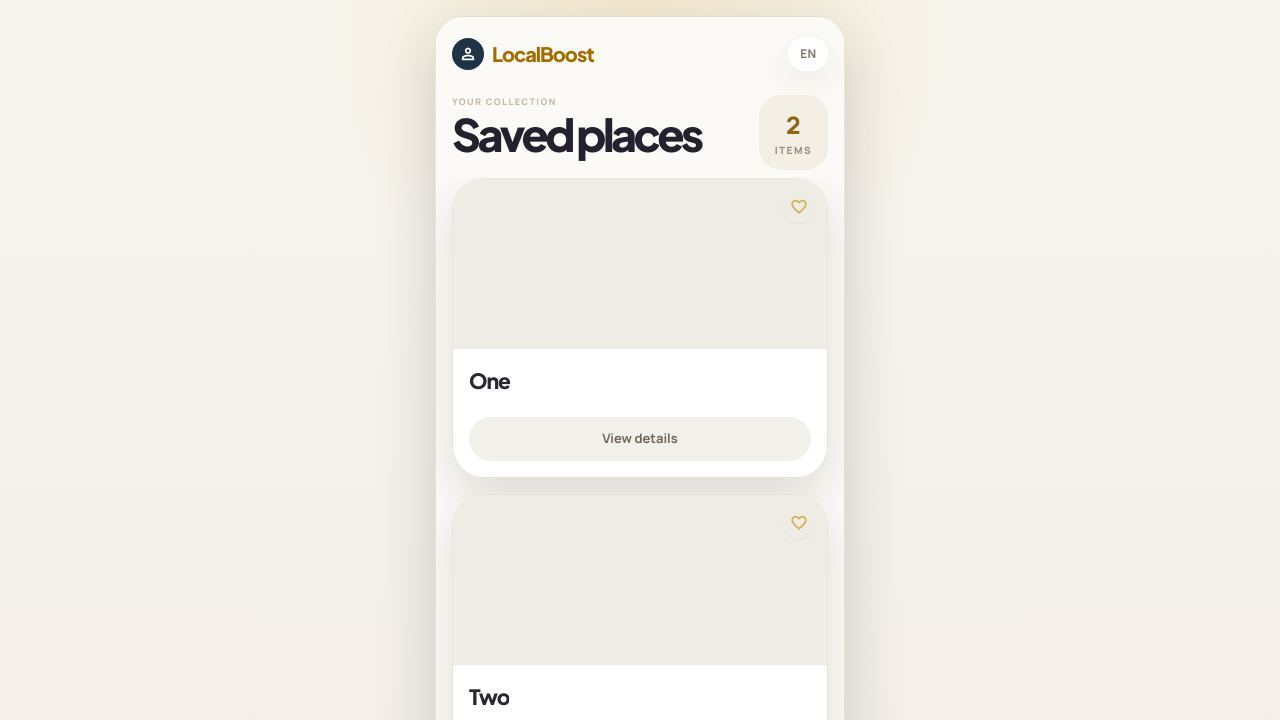
LB-73 favorites + share › shows saved favorites and allows removal from Saved page
What coordinates should you click on to do the following:
click the 1st button "favorite"
I would click on:
 (799, 207)
Its box is [783,191,815,223].
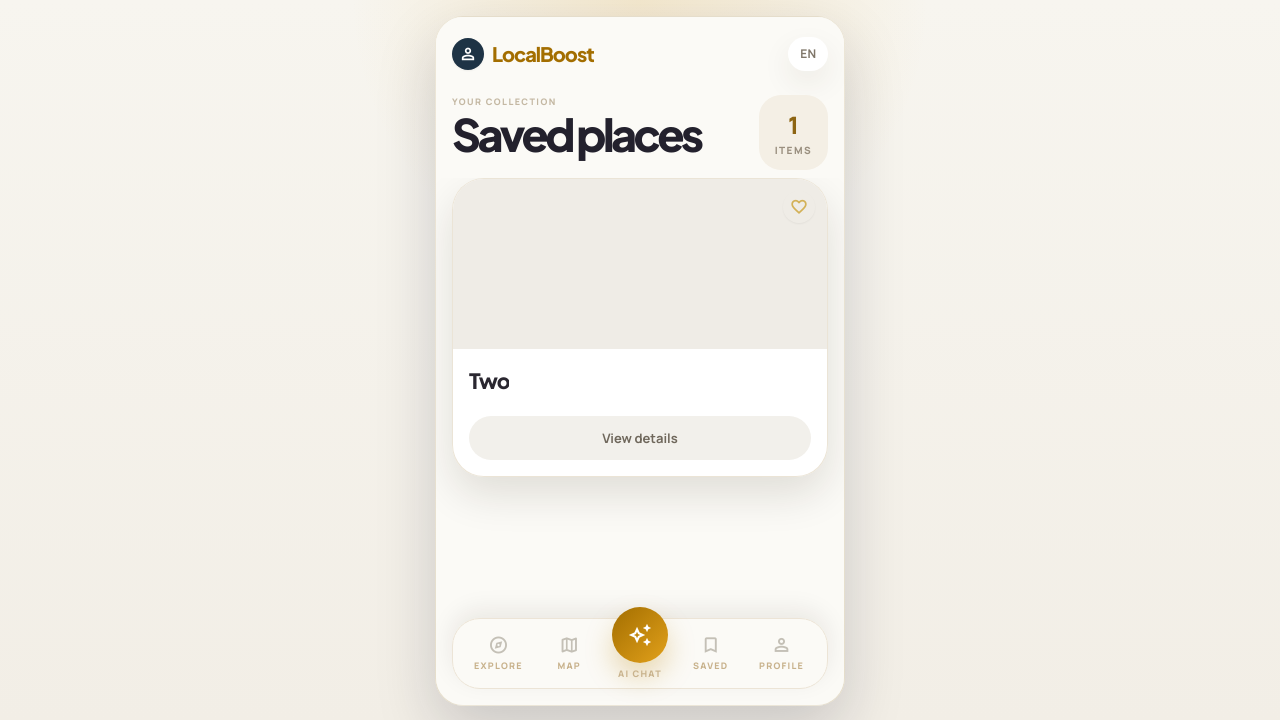
Check: the text "View details" is shown once, box [469,417,811,461]
